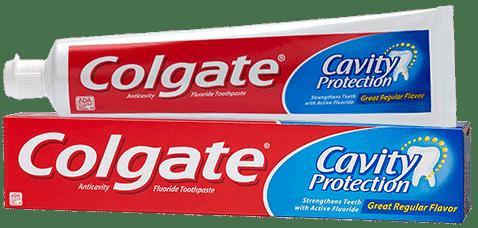toothpaste: (0, 108, 476, 227), (1, 11, 460, 129)
